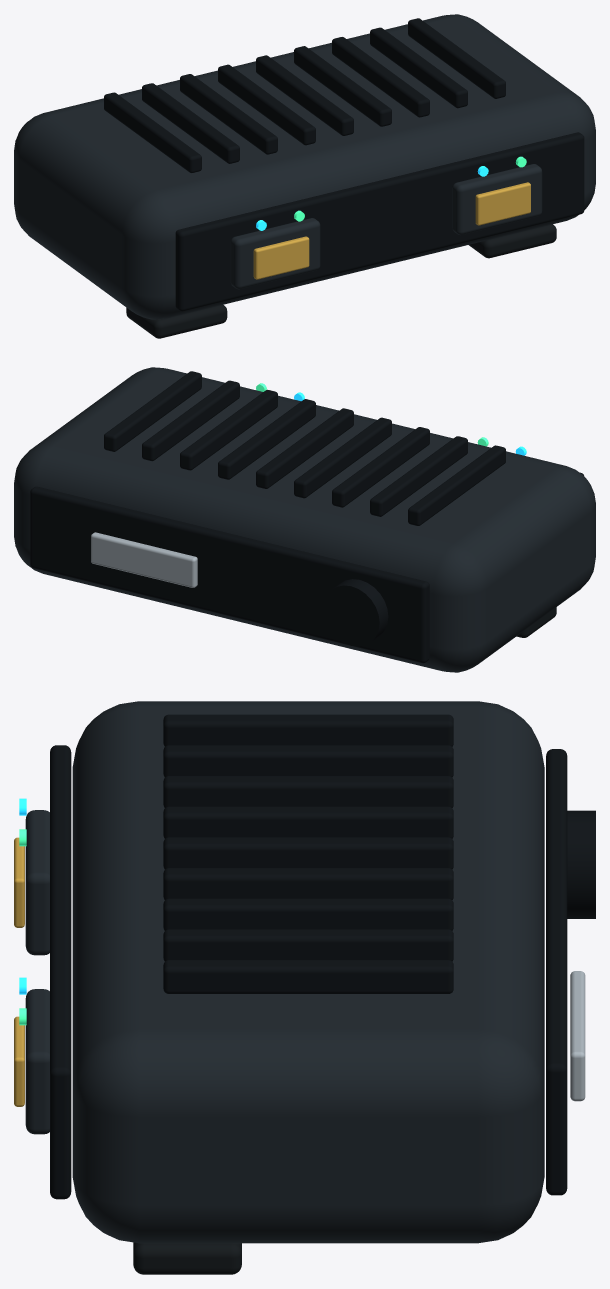
File: poe-injector.glb
3 renders of one model, top to bottom at view 1: azimuth 30°, elevation 25°; view 2: azimuth 150°, elevation 25°; view 3: azimuth 270°, elevation 25°, orthographic. The views are drawn at different scales.
Visible parts, largest first — view 1: PoE injector enclosure, Front connection panel, Cooling rib (×9), Premium managed PoE injector, Isolation foot (×2), POE Ethernet port, LAN Ethernet port; view 2: PoE injector enclosure, Power panel, Cooling rib (×9), Power rating, DC power input; view 3: PoE injector enclosure, Cooling rib (×9), Front connection panel, Power panel, LAN Ethernet port, POE Ethernet port, Isolation foot, DC power input, Power rating, Premium managed PoE injector.
Part boxes in pixels (x1,y1,x2,y2): PoE injector enclosure: (14,14,595,319); Front connection panel: (175,132,584,311); Cooling rib (×9): (104,18,505,172); Premium managed PoE injector: (253,182,530,279); Isolation foot (×2): (126,224,556,338); POE Ethernet port: (452,164,542,234); LAN Ethernet port: (230,218,320,289); PoE injector enclosure: (14,367,595,672); Power panel: (30,486,429,663); Cooling rib (×9): (104,371,505,525); Power rating: (91,532,197,587); DC power input: (322,579,388,646); PoE injector enclosure: (72,701,544,1243); Cooling rib (×9): (163,714,453,993); Front connection panel: (50,745,71,1199); Power panel: (546,749,567,1195); LAN Ethernet port: (25,810,49,955); POE Ethernet port: (25,989,49,1134); Isolation foot: (133,1242,241,1274); DC power input: (567,810,595,918); Power rating: (570,971,585,1101); Premium managed PoE injector: (14,837,24,1106).
Bounding box in the file's own units: 1.48 × 0.5025 × 0.962.
